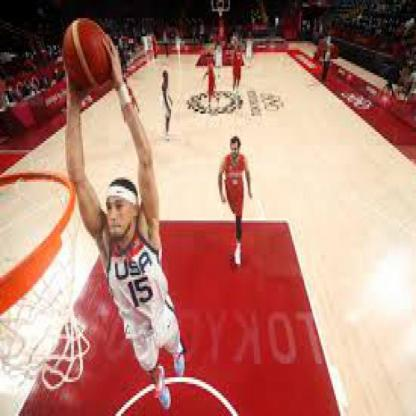basketball: (62, 20, 112, 91)
rim: (0, 168, 79, 318)
